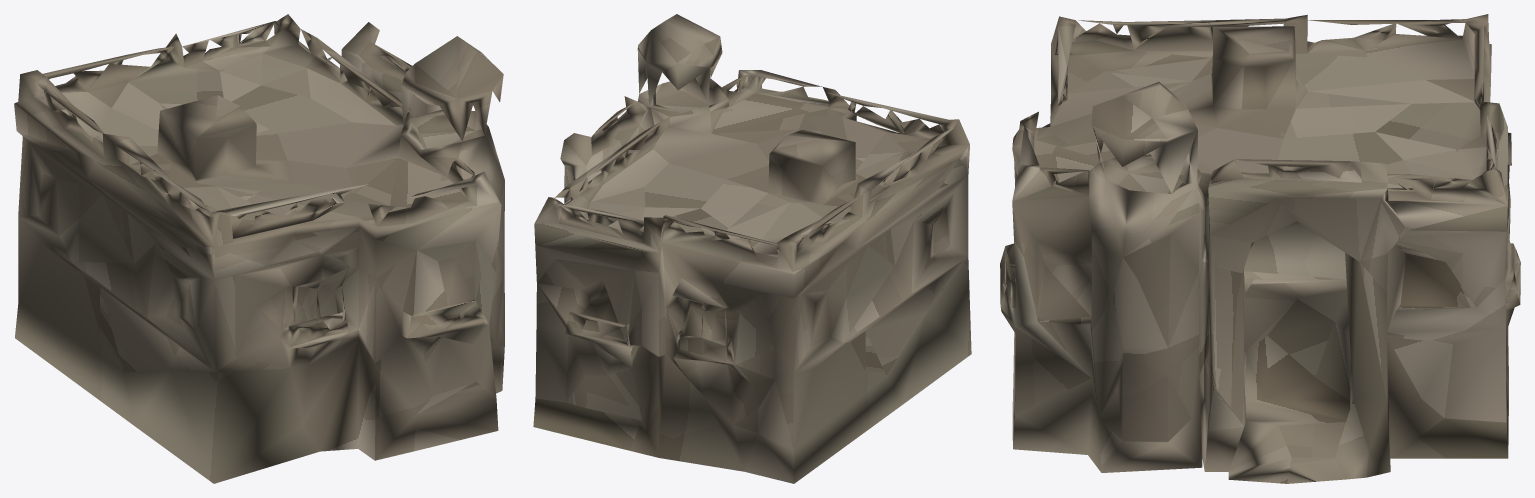
The model's file is house_noble_2_lo.glb.
3 views of the same model, side by side, from view 1: azimuth 30°, elevation 25°; view 2: azimuth 150°, elevation 25°; view 3: azimuth 270°, elevation 25° (orthographic). The views are drawn at different scales.
Visible parts, largest first — view 1: tripo_node_f6b4daa0-9f50-4762-b463-21bb5ce32393; view 2: tripo_node_f6b4daa0-9f50-4762-b463-21bb5ce32393; view 3: tripo_node_f6b4daa0-9f50-4762-b463-21bb5ce32393.
Boxes of the visible parts, x1,y1,x2,y2 form: tripo_node_f6b4daa0-9f50-4762-b463-21bb5ce32393: [14, 14, 504, 483]; tripo_node_f6b4daa0-9f50-4762-b463-21bb5ce32393: [533, 14, 971, 483]; tripo_node_f6b4daa0-9f50-4762-b463-21bb5ce32393: [1000, 14, 1520, 483].
Size of the model in its own units: 0.7992 by 0.7805 by 0.9783.
1 material, 1 textured.
